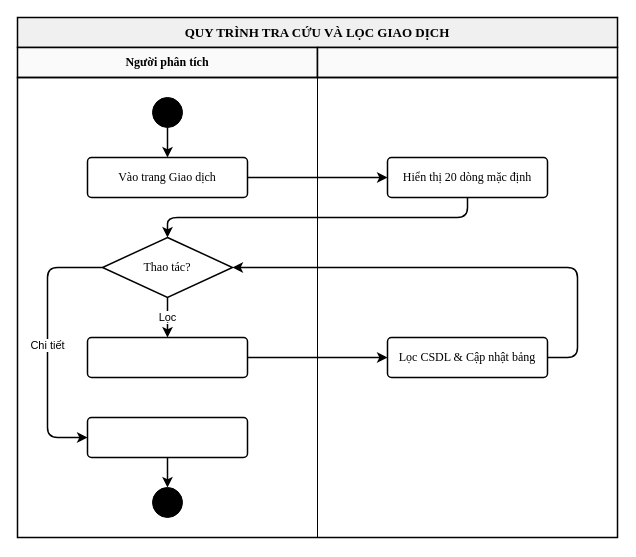
The diagram is 636 pixels wide and 557 high, and some of its shapes have lost their labels. Here are the shapes that lost their labels. From the top down, the box of each, then its label:
(316, 46, 618, 78): Hệ thống
(86, 336, 248, 378): Đặt bộ lọc / tìm kiếm
(86, 416, 248, 458): Chọn xem chi tiết giao dịch
